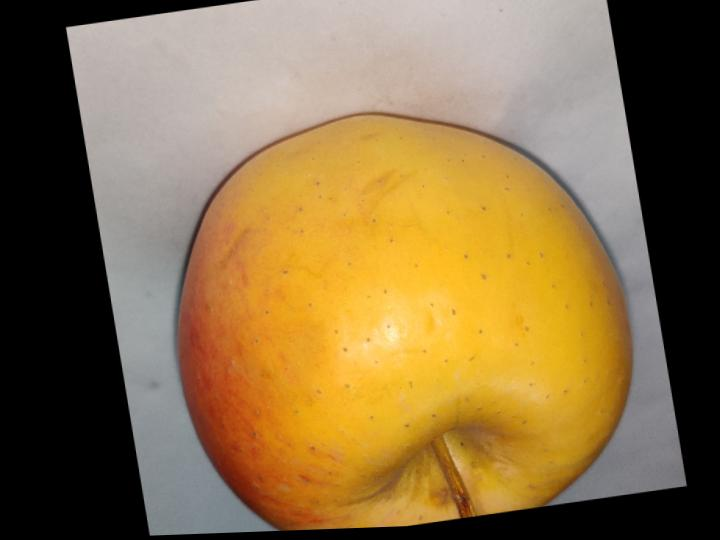apple: (177, 114, 630, 531)
